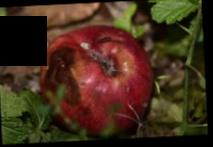rotten apple: (39, 20, 158, 135)
